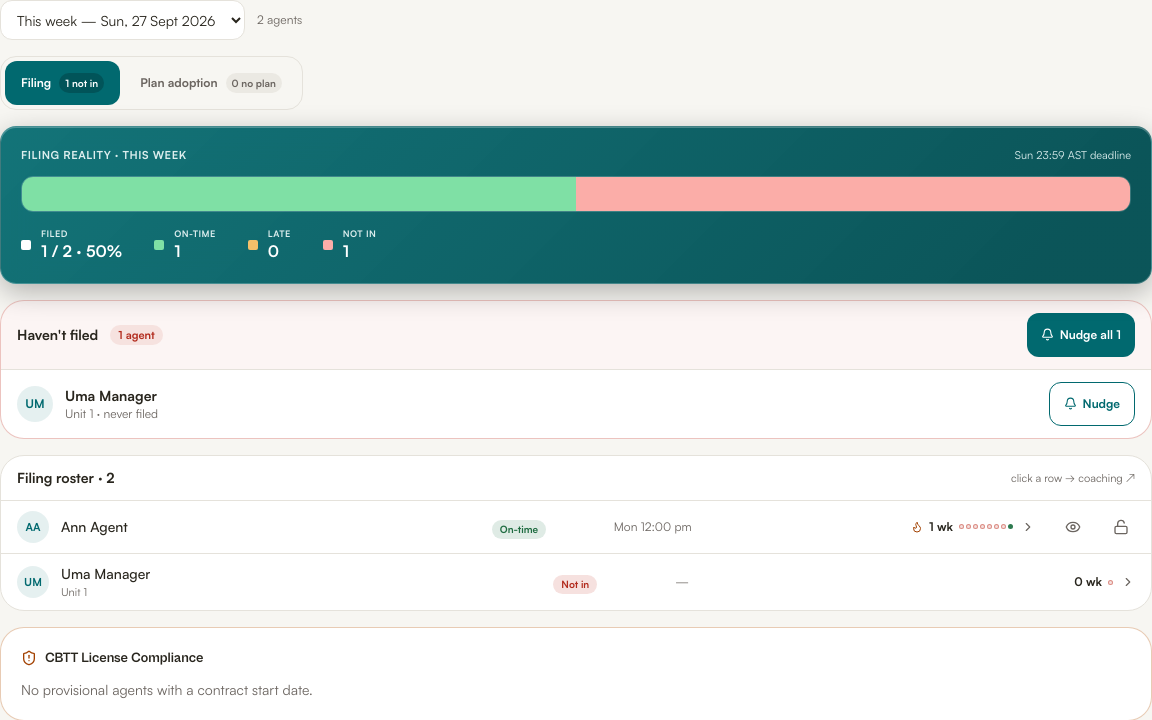
Scenario: CompliancePanel — Phase 3 UM mandatory filing › plan lens stays agents-only post-cutoff (filing lens only — Phase 3) › plan lens denominator = 1 agent only, NOT 2 (agent + UM)
Expected: the element with test id "compliance-reality-bar" is shown, [0,126,1151,284]
Step 1. Click the button with test id "compliance-lens-plan" → (211,83), box [124,61,298,105]
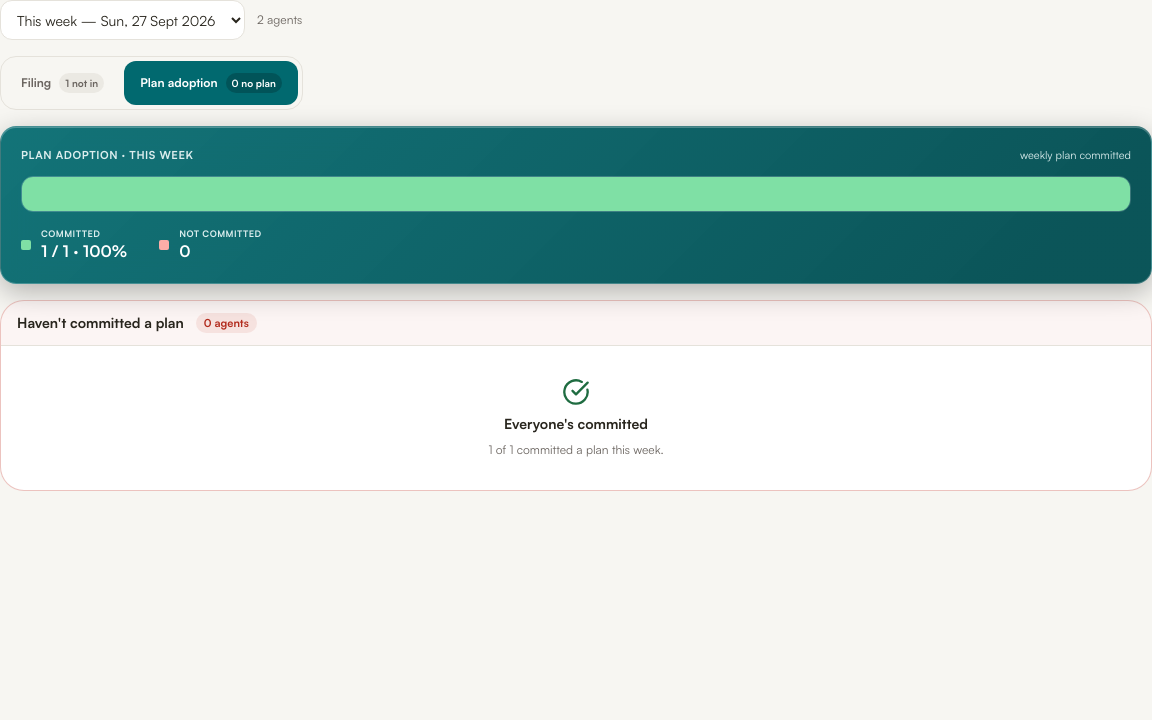
Expected: the element with test id "compliance-all-clear" is shown, [488,378,664,457]
